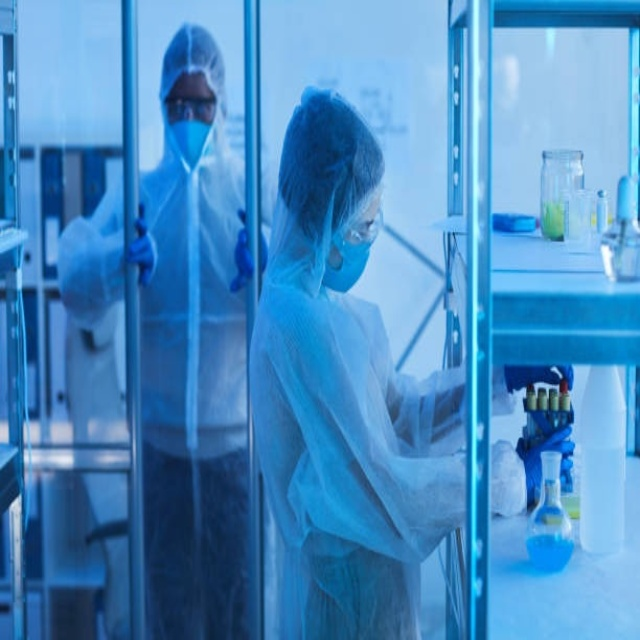Gafas: (343, 205, 383, 246), (165, 95, 216, 123)
Guantes: (522, 425, 576, 499), (229, 204, 269, 290), (123, 198, 158, 287), (504, 356, 576, 395)
Mascara: (321, 224, 375, 294), (167, 116, 216, 173)
